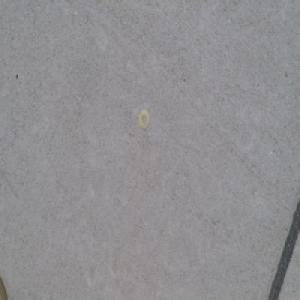Washer: (138, 109, 150, 131)
